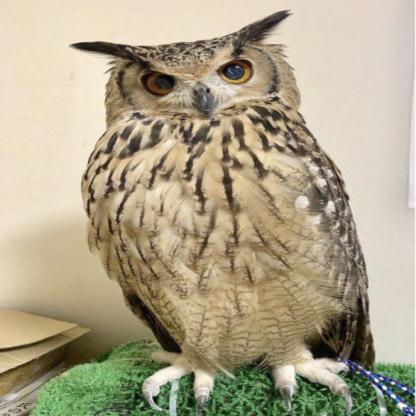owl: (43, 3, 416, 416)
